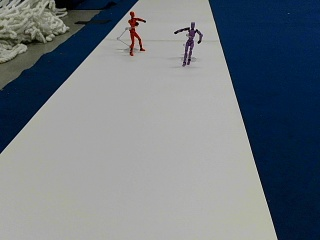pedestrian: (174, 23, 203, 67), (127, 11, 146, 55)
